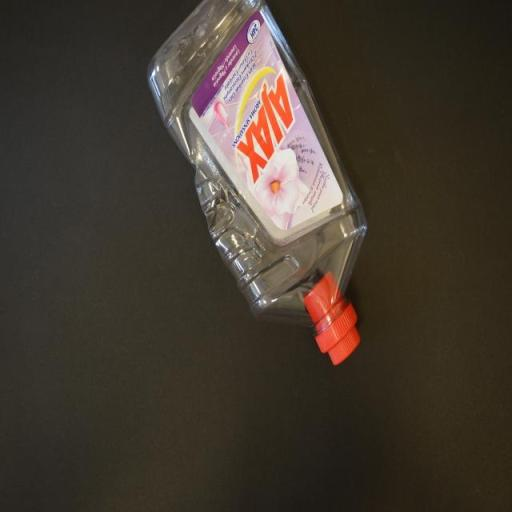plastic: (146, 0, 368, 367)
